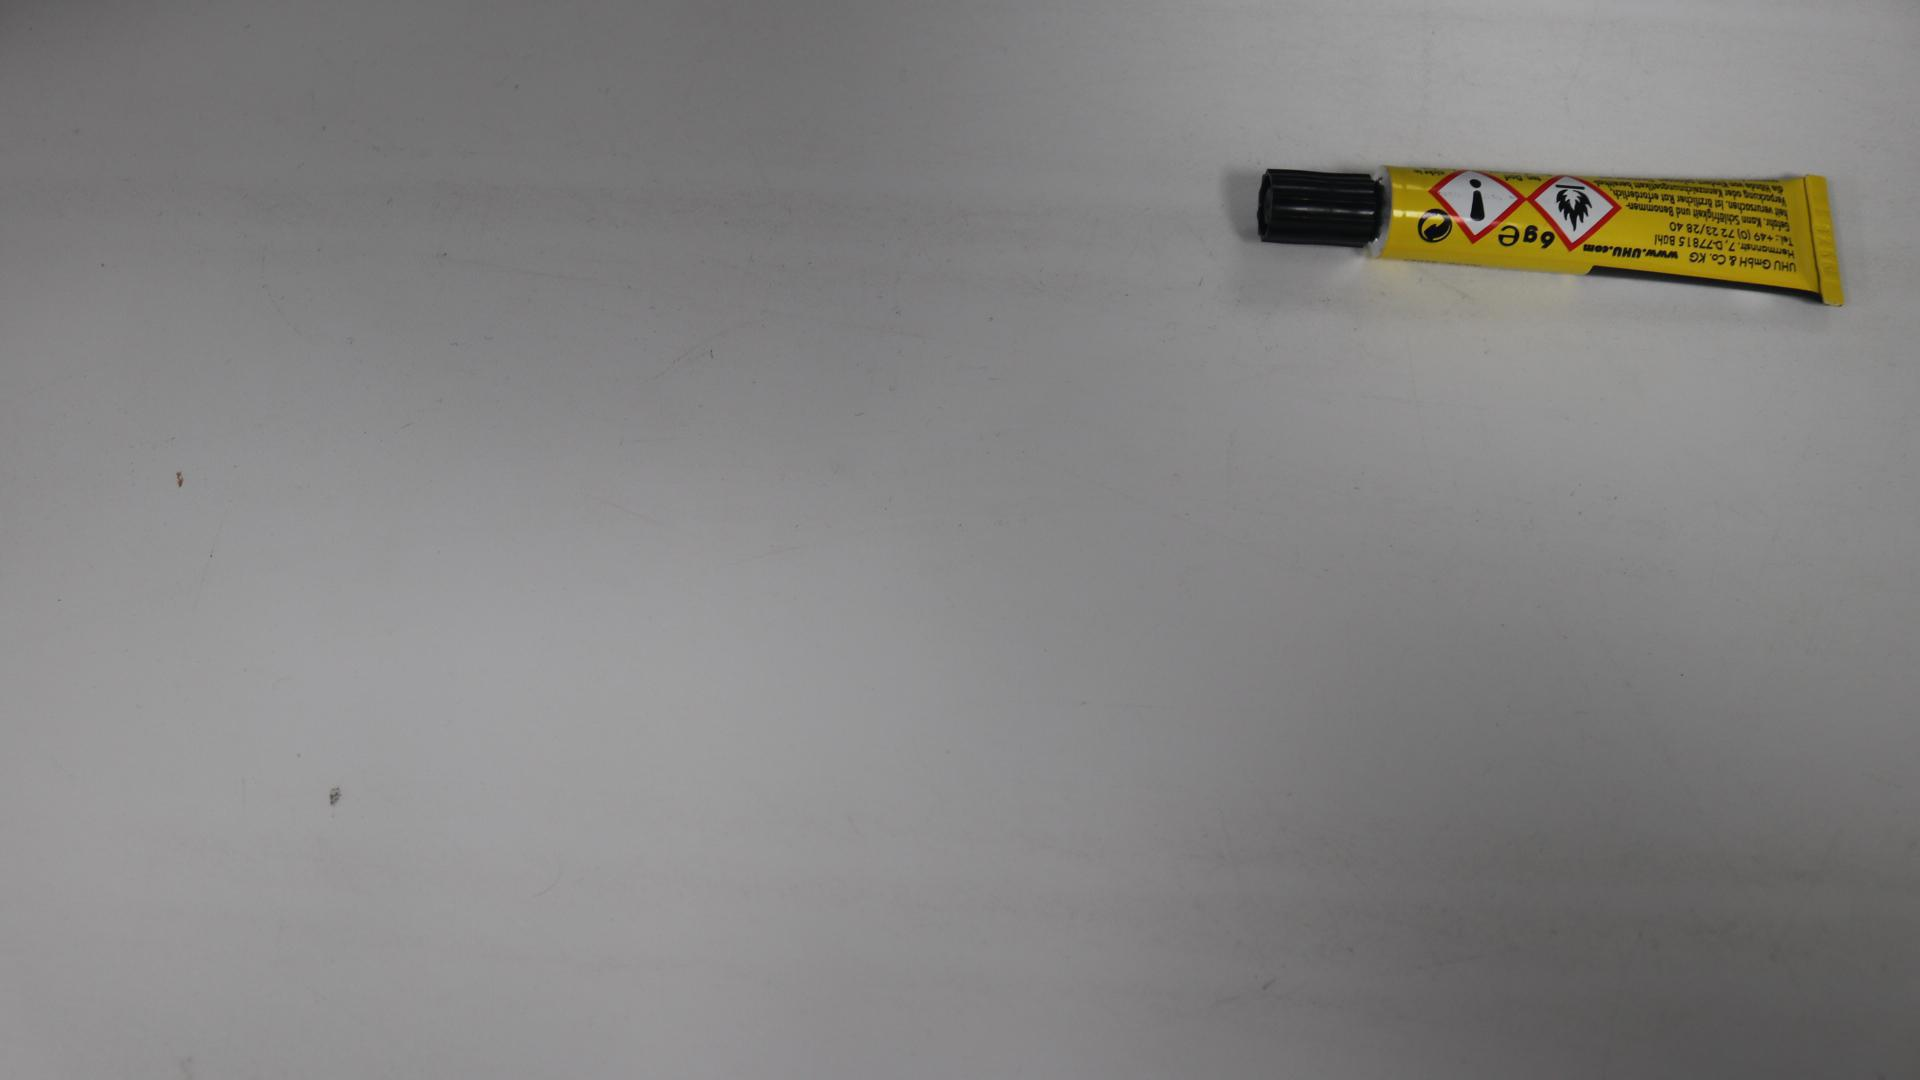Head: (1316, 198, 1332, 211)
Tail: (1816, 233, 1832, 248)
Tube: (1255, 165, 1846, 307)
